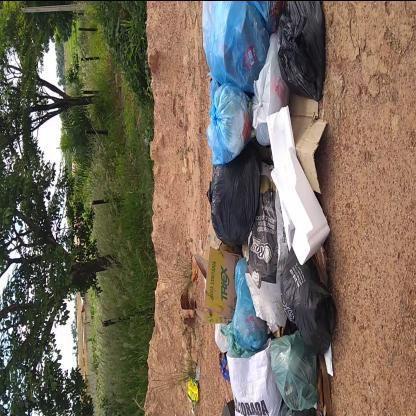lixo: (213, 0, 332, 415)
